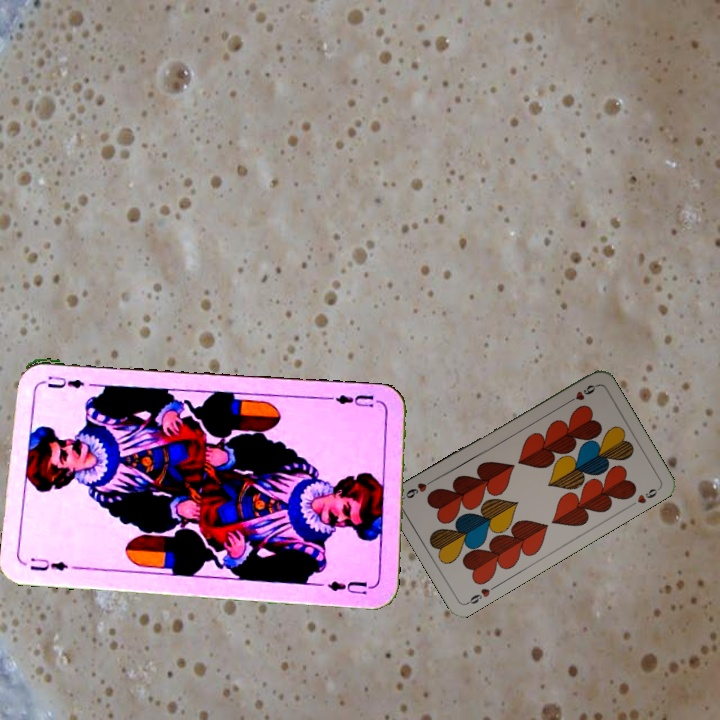EU: (327, 390, 386, 417), (26, 553, 71, 574)
H9: (563, 381, 600, 407), (463, 584, 493, 607)
